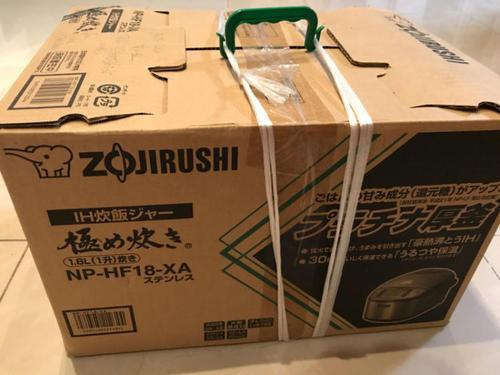cardboard: (0, 7, 499, 374)
